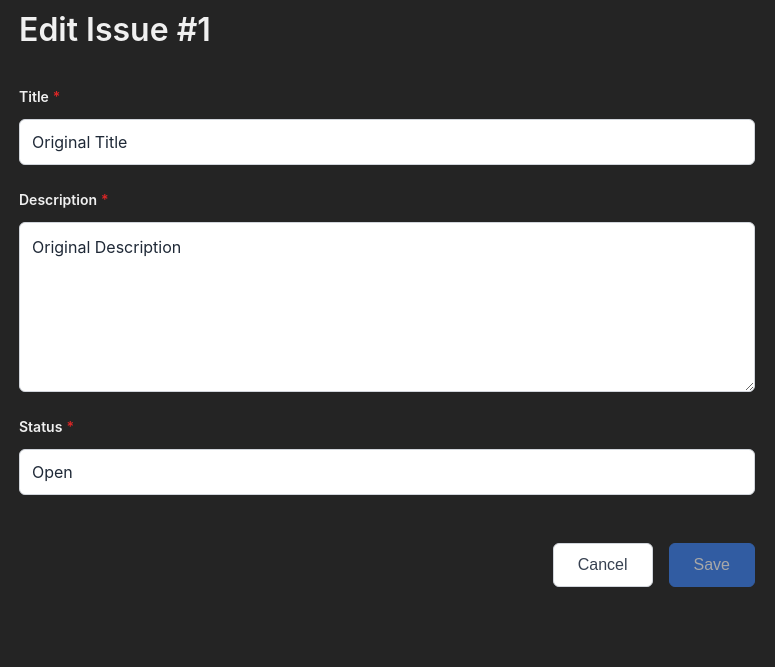
Test: EditIssuePage › validation errors › displays field errors when validation fails
# Clear title and submit
Clear the field labelled "Title*" at (387, 142), box x1=19 y1=119 x2=755 y2=165
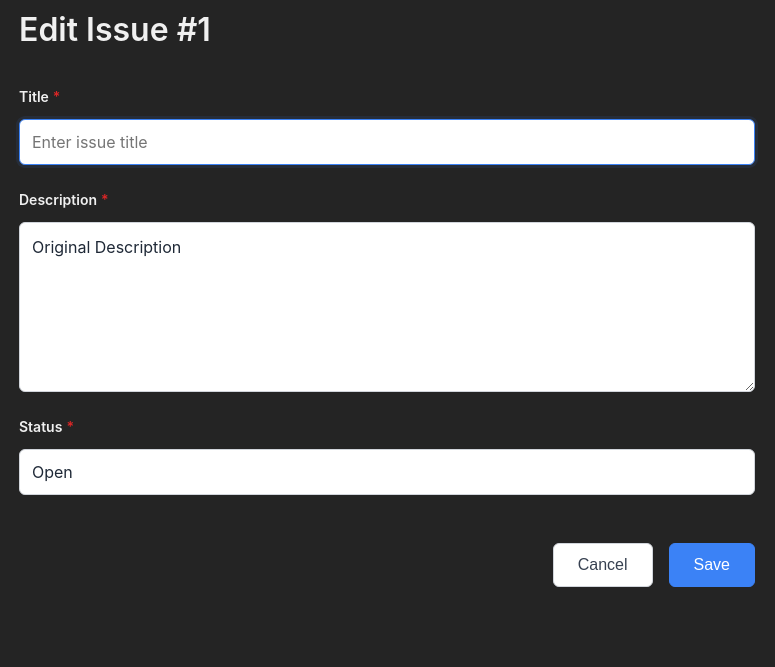
Click the button "Save".
click(712, 565)  # box x1=668 y1=543 x2=755 y2=587
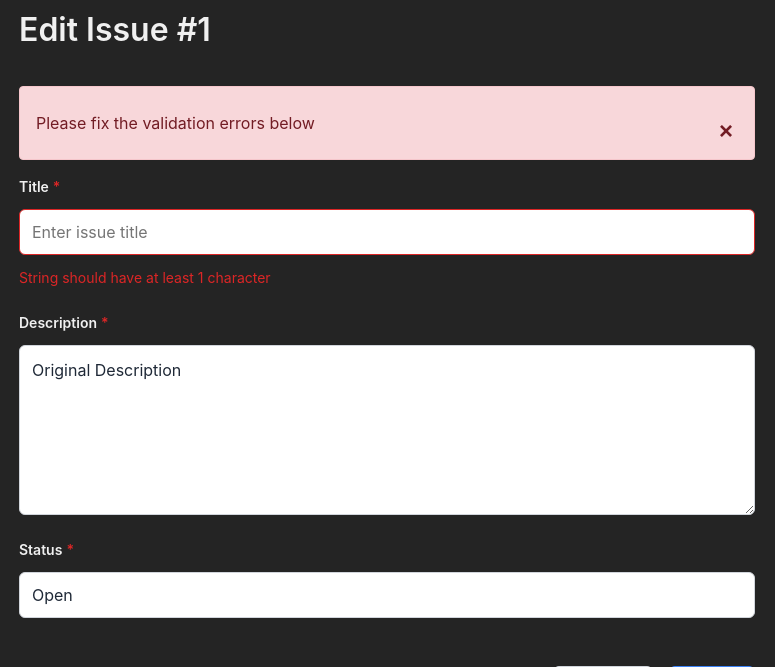
expect the text "String should have at least 1 character" is shown: met, box x1=19 y1=269 x2=271 y2=286
